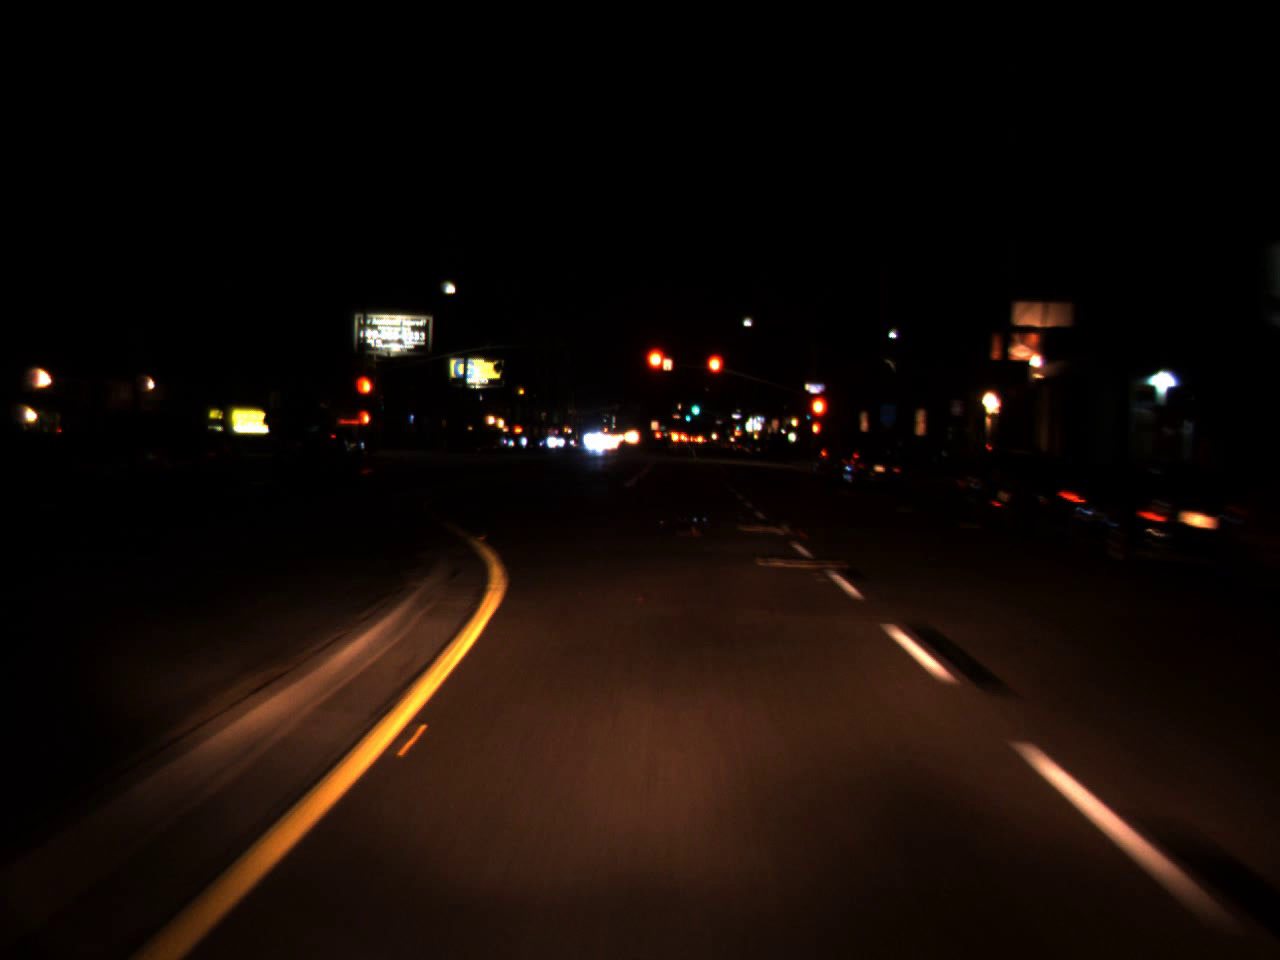go: (688, 394, 700, 418), (733, 416, 742, 434), (684, 408, 691, 423)
stop: (643, 345, 668, 393), (808, 393, 829, 438), (706, 352, 724, 395), (355, 374, 373, 414)
